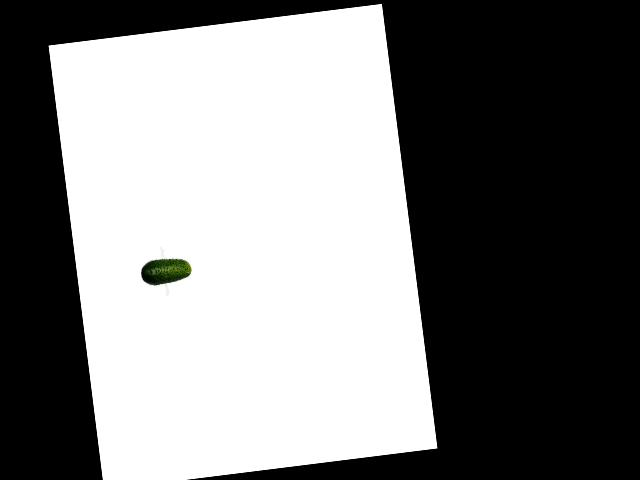cucumber: (139, 254, 192, 286)
